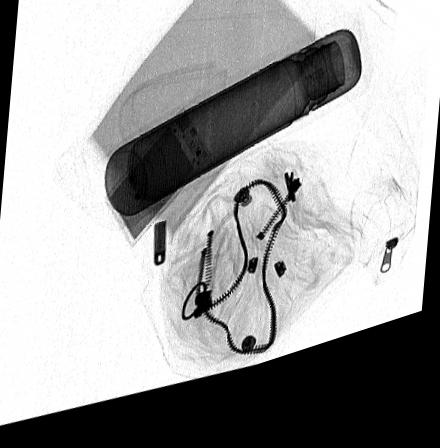Powerbank: (102, 117, 212, 255)
